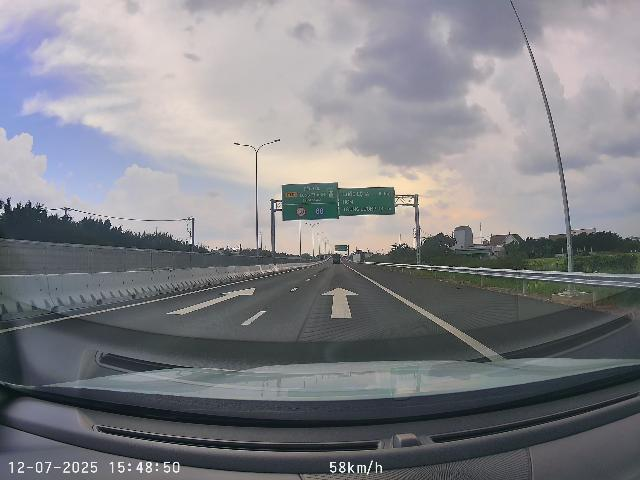127-toc-do-toi-da-100: (295, 206, 307, 217)
306-toc-do-toi-thieu-60: (315, 206, 325, 216)
437-bat-dau-duong-cao-toc: (327, 188, 335, 198)
